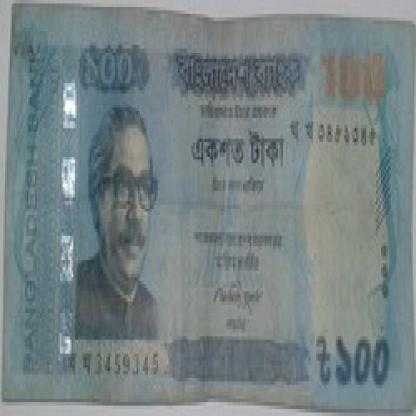one hundred taka: (332, 323, 402, 396), (318, 42, 391, 104), (83, 42, 145, 90)
